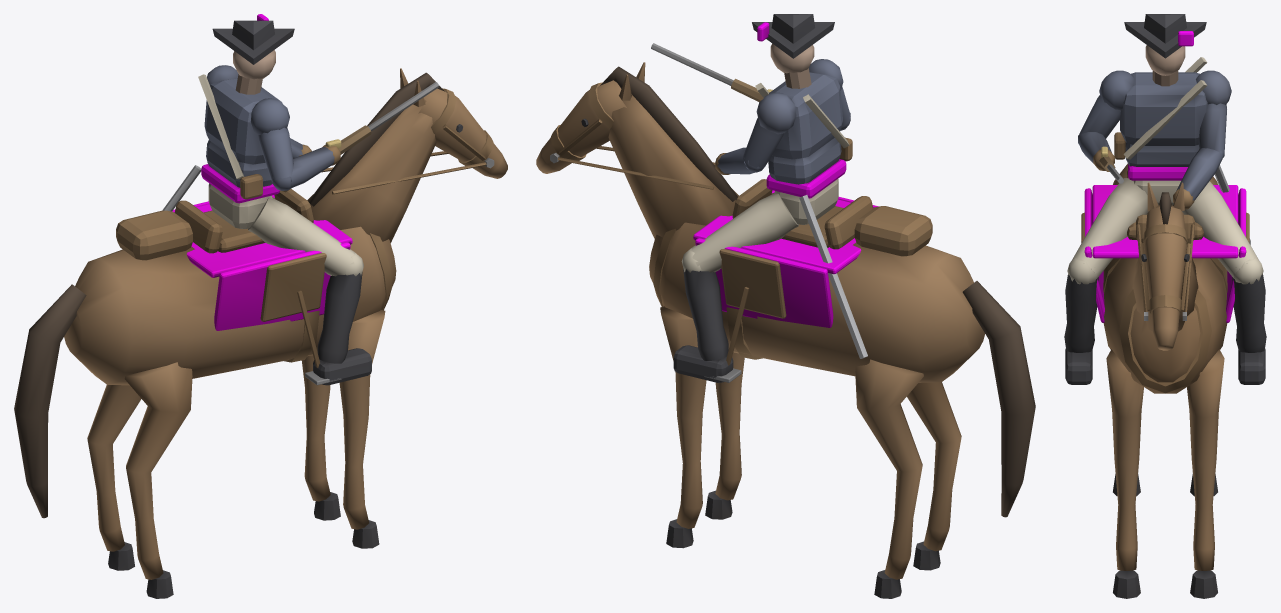
File: dragoon.glb
The picture shows the model from 3 angles, left to right: view 1: azimuth 30°, elevation 25°; view 2: azimuth 150°, elevation 25°; view 3: azimuth 270°, elevation 25°; orthographic projection.
Parts seen in each view (by area): view 1: Body; view 2: Body; view 3: Body.
Boxes of the visible parts, x1,y1,x2,y2 form: Body: (14,14,507,598); Body: (536,14,1035,598); Body: (1064,14,1266,598).
Size of the model in its own units: 2.51 by 2.59 by 0.8898.
1 material, 1 textured.
